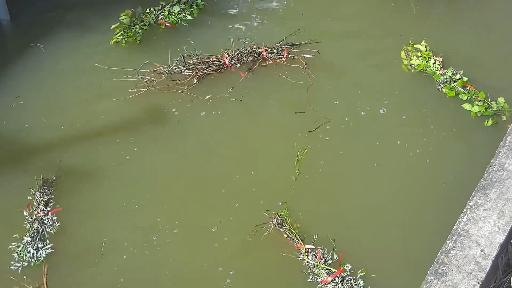twig: (91, 25, 332, 126), (263, 139, 384, 288), (398, 34, 504, 136), (9, 150, 74, 270), (110, 0, 251, 53), (18, 268, 64, 281)
